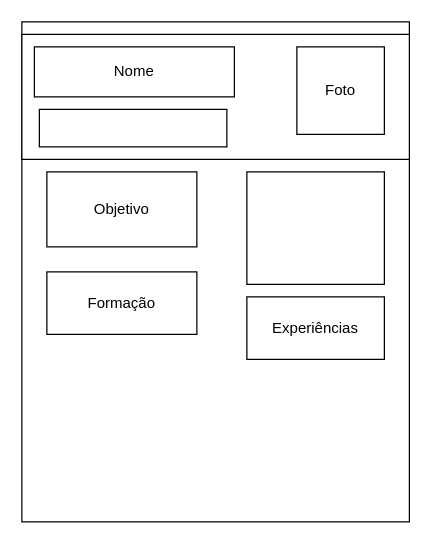
The diagram is 431 pixels wide and 544 high, and some of its shapes have lost their labels. The box of each missing label's shape, as (x1, y1, x2, y2) in pixels:
Habilidades: (246, 171, 384, 284)
Pessoais e contatos: (38, 108, 227, 147)
